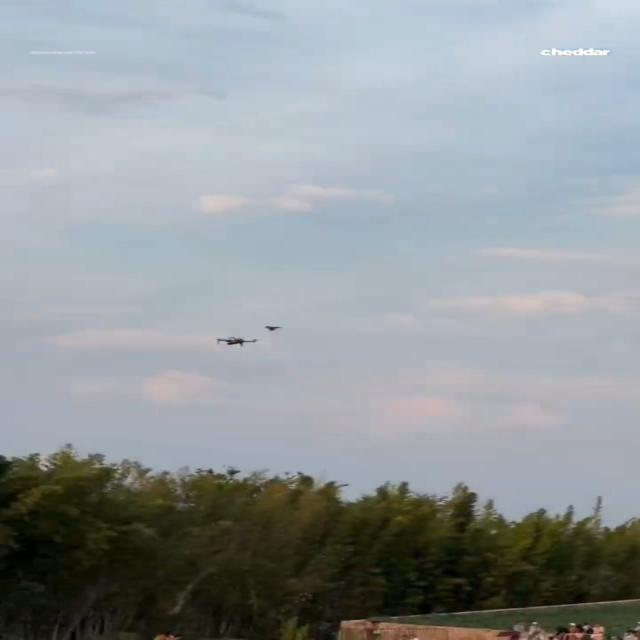bird: (264, 326, 282, 330)
drone: (215, 336, 259, 346)
